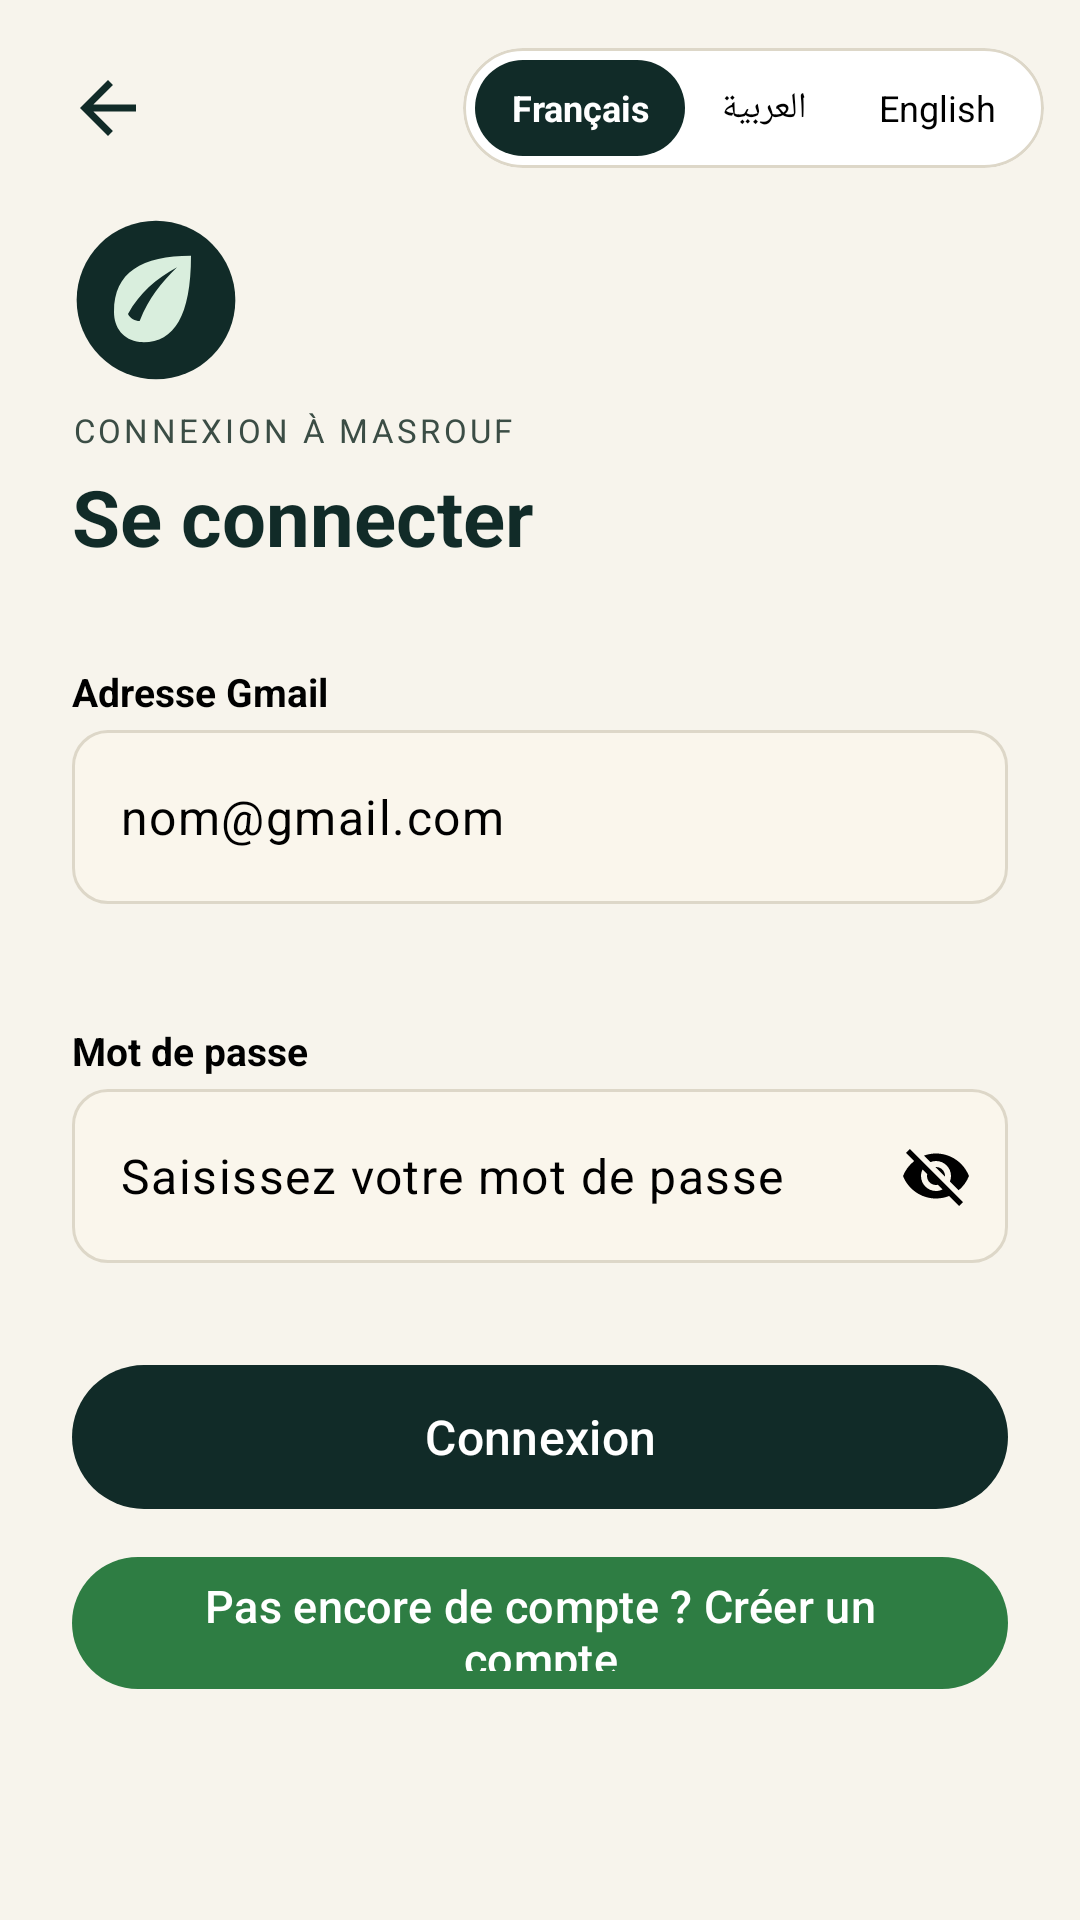

Where to tap for icons on this 1080 x 1920 app screen, as [x,y]:
Retour: [108,108]
